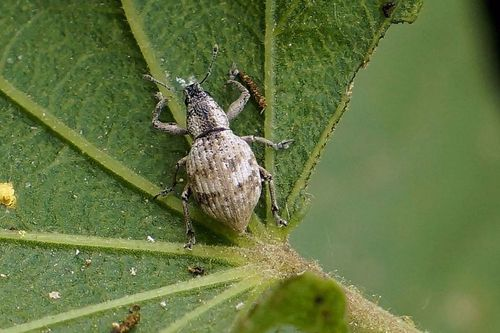Curculionidae: (141, 43, 296, 250)
